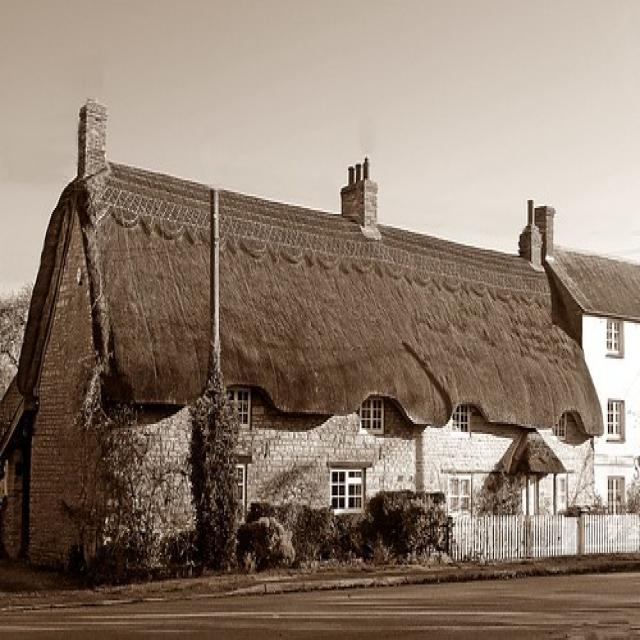building: (12, 92, 605, 580)
